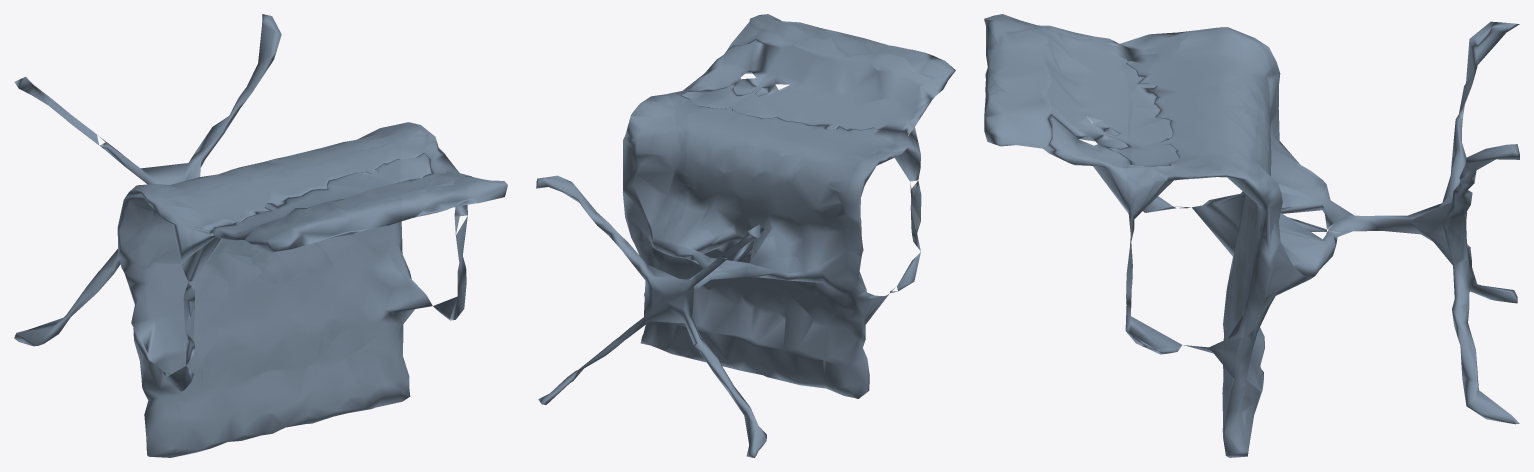
Rendered from sample_256_orig.obj.
The picture shows the model from 3 angles, left to right: view 1: azimuth 30°, elevation 25°; view 2: azimuth 150°, elevation 25°; view 3: azimuth 270°, elevation 25°; orthographic projection. The views are drawn at different scales.
Size of the model in its own units: 0.9243 by 0.9603 by 1.4.
